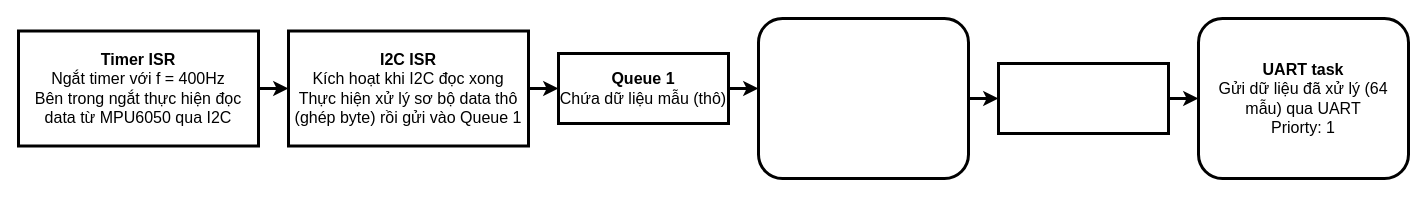
This 1427x197 diagram has some shape labels left out. Each missing label, with the box of its shape:
Process task Lọc dự liệu thô, đóng gói Priorty: 2: (756, 16, 970, 180)
Queue 2 Chứa dữ liệu đã xử lý: (996, 62, 1170, 134)
